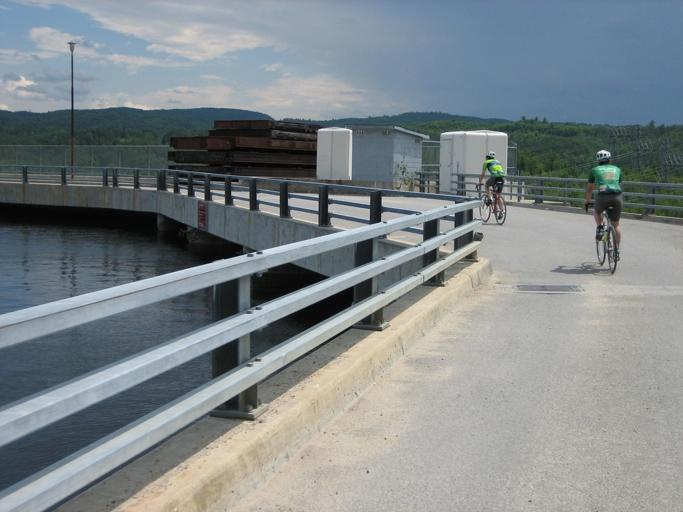non-vehicle: (584, 202, 620, 273), (475, 181, 506, 225)
